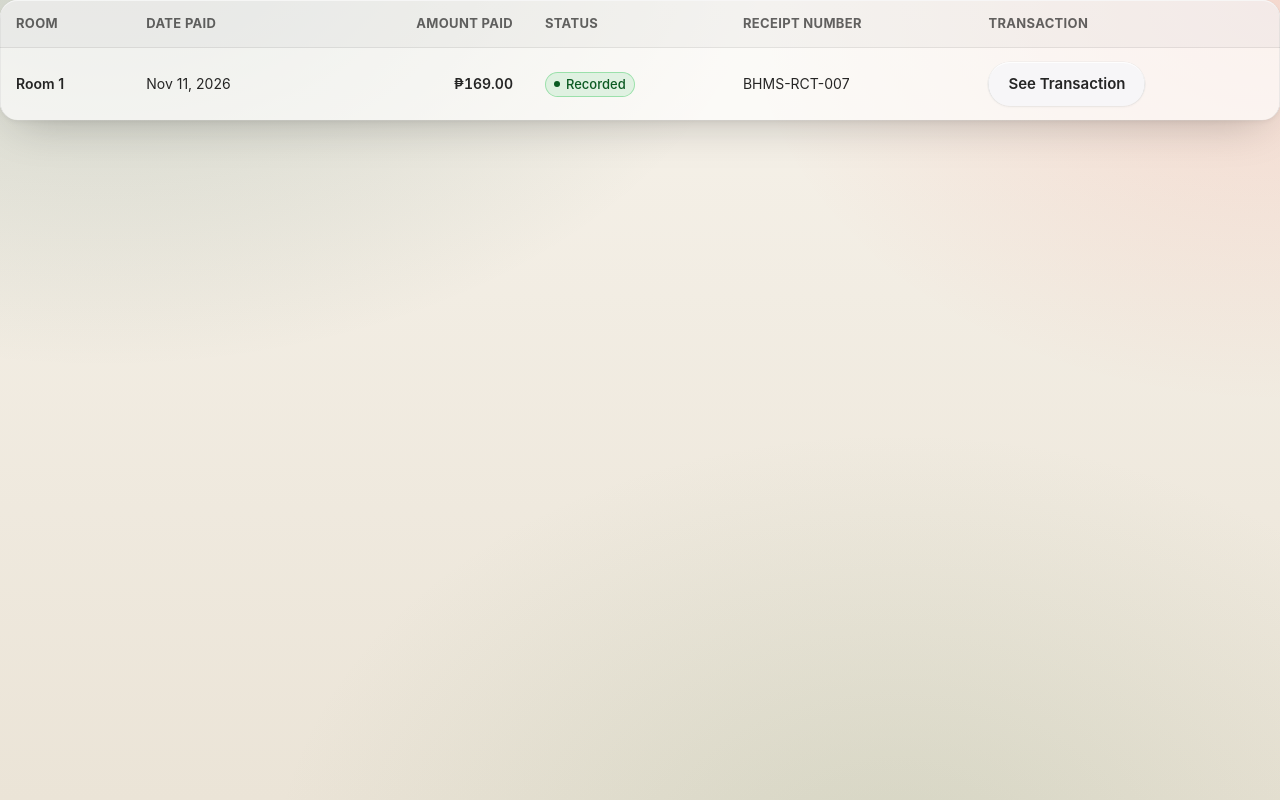
Scenario: Payment History transaction dialog › shows electricity and washing-machine allocations accurately
This screenshot has width=1280, height=800.
Later steps or results of the test are not shown.
Click the button "See Transaction" at point(1067, 84), box [988,62,1146,106]
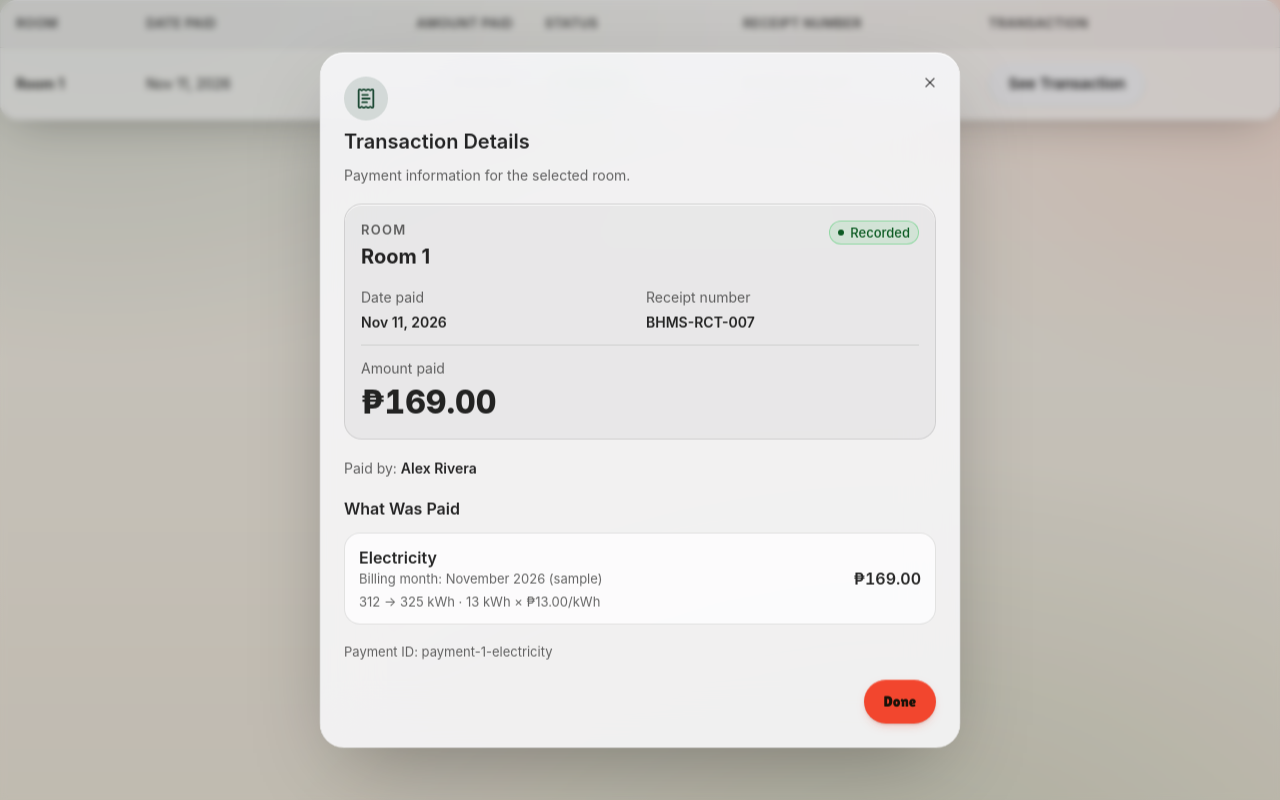
Check: the dialog "Transaction Details" shows "Electricity", box [359,548,437,568]
Check: the dialog "Transaction Details" shows "₱169.00", box [361,383,496,422]
Check: the dialog "Transaction Details" shows "312 → 325 kWh", box [320,53,960,748]
